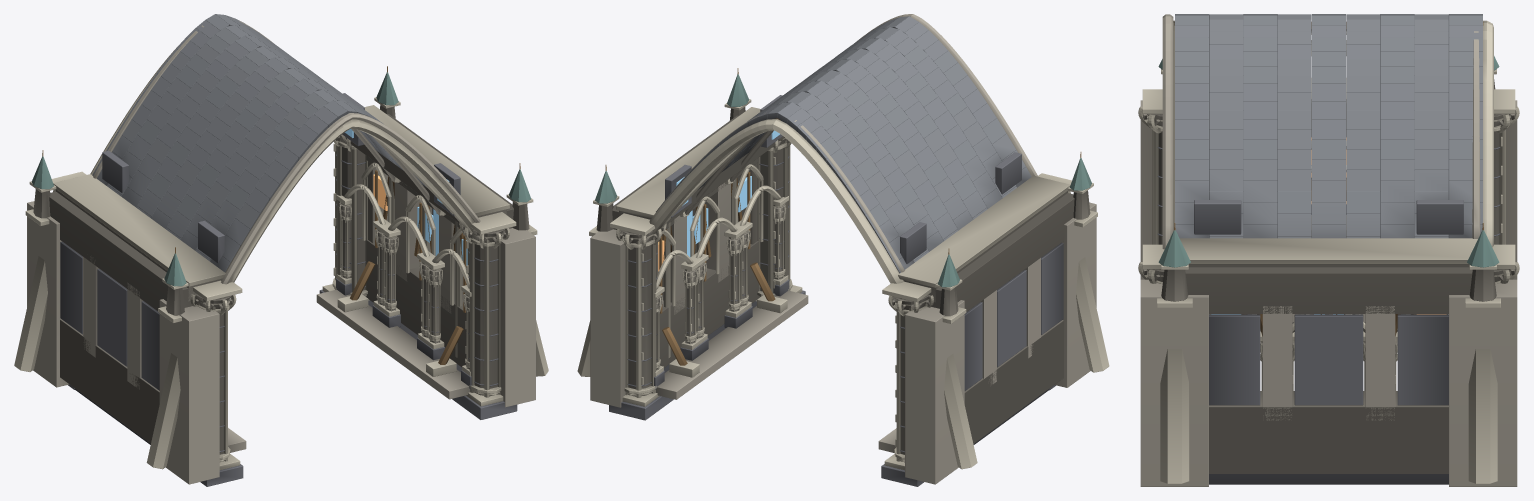
Rendered from nave-bay.glb.
The picture shows the model from 3 angles, left to right: view 1: azimuth 30°, elevation 25°; view 2: azimuth 150°, elevation 25°; view 3: azimuth 270°, elevation 25°; orthographic projection. The views are drawn at different scales.
Parts seen in each view (by area): view 1: nave-bay__limestone, nave-bay__slate, nave-bay__pale, nave-bay__shadow, nave-bay__copper, nave-bay__bronze, nave-bay__rose_blue; view 2: nave-bay__limestone, nave-bay__pale, nave-bay__slate, nave-bay__shadow, nave-bay__copper, nave-bay__bronze, nave-bay__rose_blue; view 3: nave-bay__limestone, nave-bay__slate, nave-bay__pale, nave-bay__shadow, nave-bay__copper.
Boxes of the visible parts, <box> form: nave-bay__limestone: <box>27,18,535,484</box>; nave-bay__slate: <box>92,14,426,272</box>; nave-bay__pale: <box>14,42,548,469</box>; nave-bay__shadow: <box>60,93,517,486</box>; nave-bay__copper: <box>31,72,531,286</box>; nave-bay__bronze: <box>42,66,520,364</box>; nave-bay__rose_blue: <box>345,129,467,265</box>; nave-bay__limestone: <box>590,14,1096,484</box>; nave-bay__pale: <box>577,99,1109,470</box>; nave-bay__slate: <box>656,16,1031,273</box>; nave-bay__shadow: <box>609,95,1063,486</box>; nave-bay__copper: <box>595,74,1091,287</box>; nave-bay__bronze: <box>605,68,1081,365</box>; nave-bay__rose_blue: <box>676,130,780,257</box>; nave-bay__limestone: <box>1140,14,1517,486</box>; nave-bay__slate: <box>1175,14,1482,238</box>; nave-bay__pale: <box>1138,20,1519,483</box>; nave-bay__shadow: <box>1157,147,1500,484</box>; nave-bay__copper: <box>1158,56,1499,267</box>.
Size of the model in its own units: 124 by 98.26 by 89.04.
